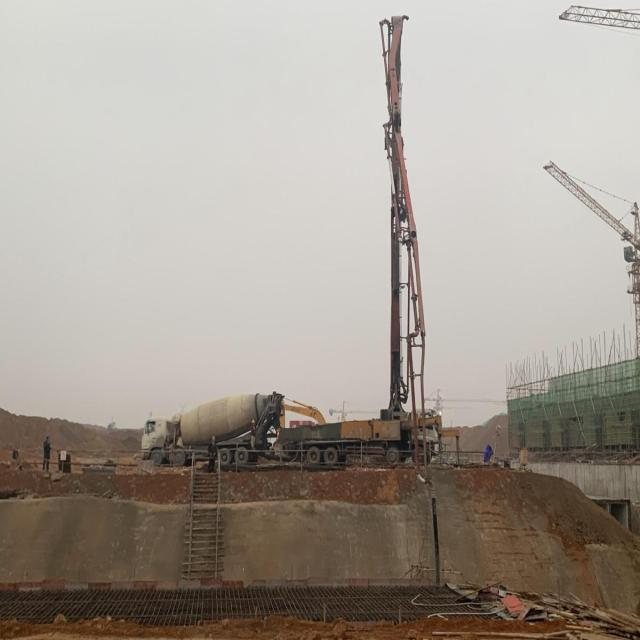crane: (535, 151, 640, 344)
truck: (271, 10, 457, 476)
